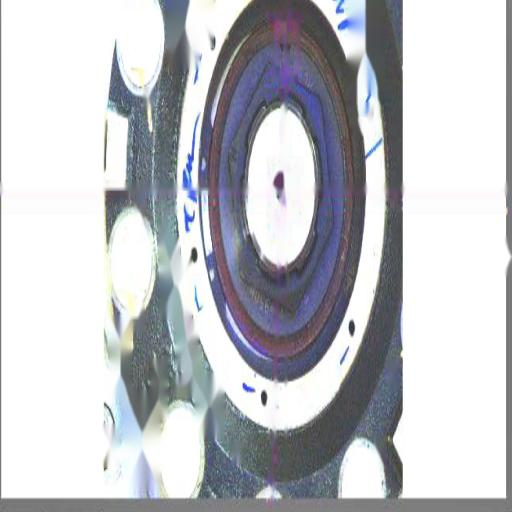center: (269, 167, 289, 201)
notch: (276, 34, 294, 64)
